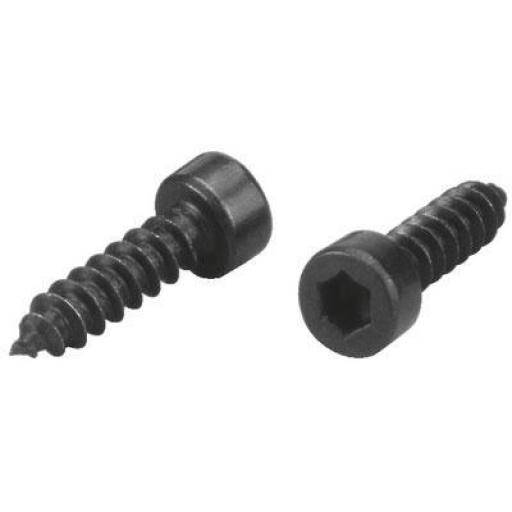Hex-Allen: (295, 233, 421, 360)
